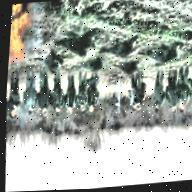boar: (52, 22, 106, 59), (140, 34, 186, 70), (105, 25, 143, 63), (76, 54, 107, 79), (42, 53, 68, 75), (111, 61, 143, 77)
